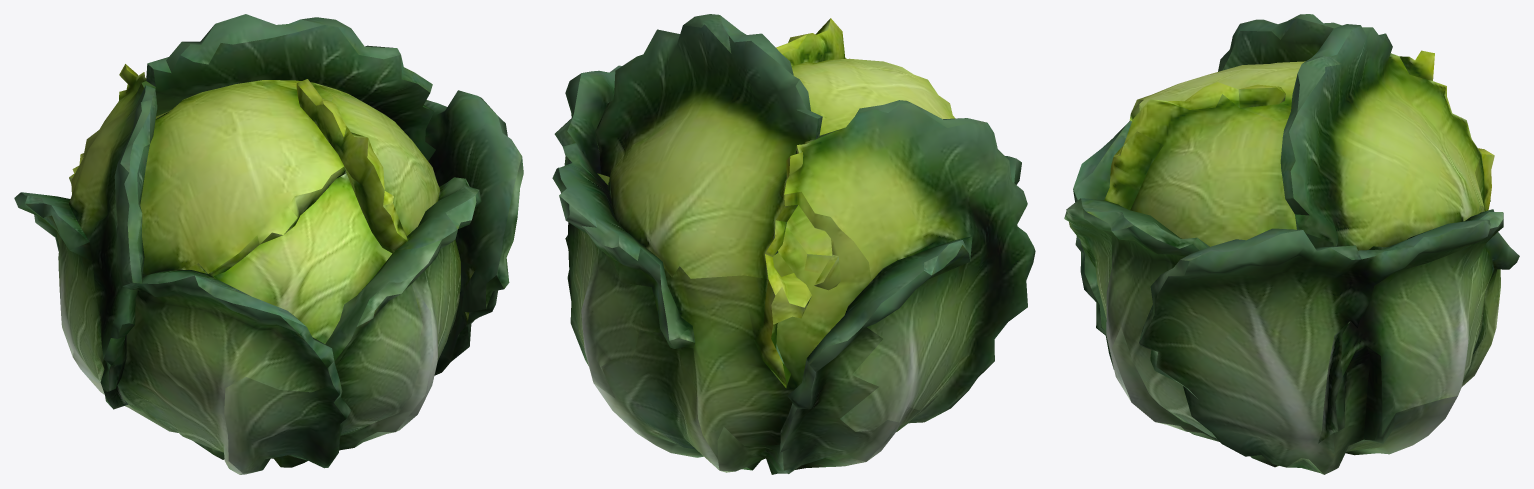
Rendered from cabbage.glb.
3 views of the same model, side by side, from view 1: azimuth 30°, elevation 25°; view 2: azimuth 150°, elevation 25°; view 3: azimuth 270°, elevation 25° (orthographic). The views are drawn at different scales.
Visible parts, largest first — view 1: cabbage; view 2: cabbage; view 3: cabbage.
Boxes of the visible parts, x1,y1,x2,y2 form: cabbage: [14, 14, 523, 474]; cabbage: [552, 14, 1035, 474]; cabbage: [1064, 14, 1519, 474].
Size of the model in its own units: 1 by 0.9314 by 0.9407.
1 material, 1 textured.
